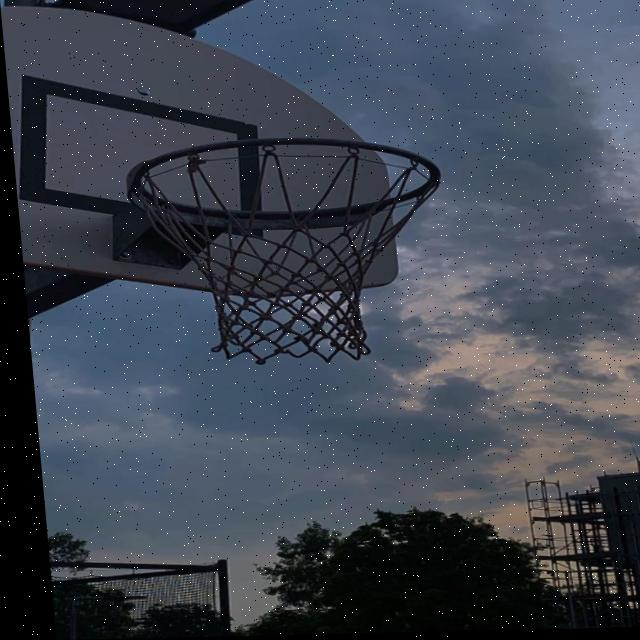hoop: (96, 121, 520, 396)
